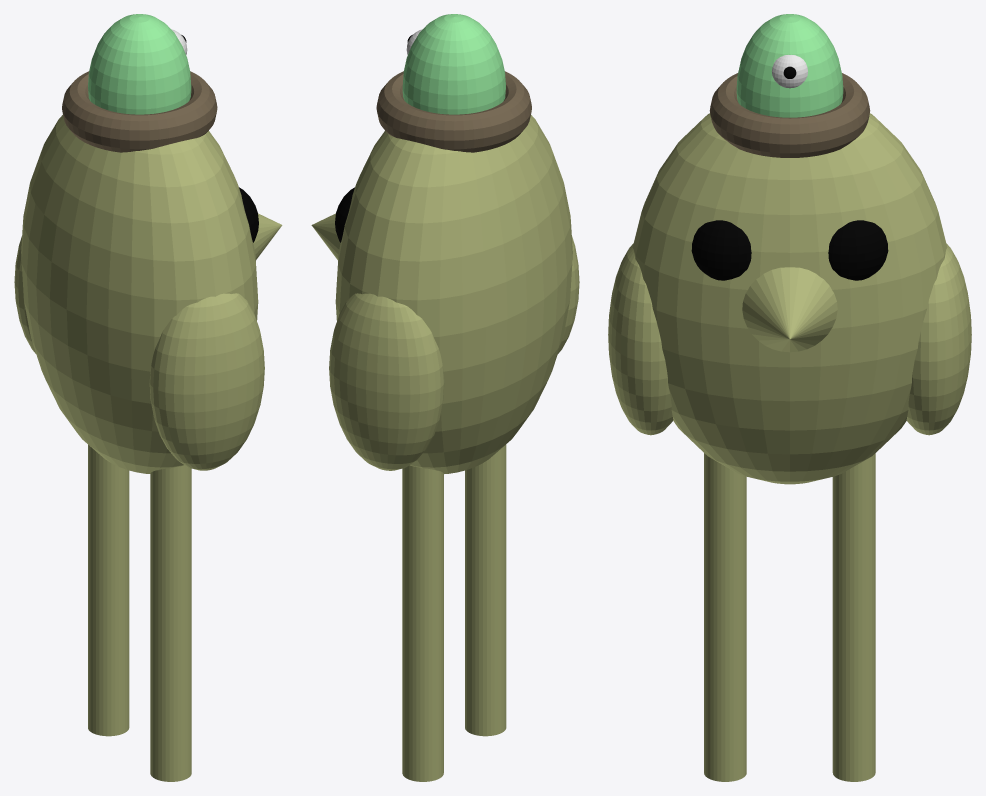
Rendered from prophet.fbx.
The picture shows the model from 3 angles, left to right: view 1: azimuth 30°, elevation 25°; view 2: azimuth 150°, elevation 25°; view 3: azimuth 270°, elevation 25°; orthographic projection. The views are drawn at different scales.
Parts seen in each view (by area): view 1: right wing, right leg, left leg, egg, nest crown, nose, eyes; view 2: right wing, left leg, right leg, egg, nest crown, nose, eyes; view 3: right wing, left leg, right leg, egg, nest crown, nose, eyes, egg eye.
Part boxes in pixels (left/top/right/bottom): right wing: left=14, top=115, right=264, bottom=473; right leg: left=150, top=465, right=191, bottom=781; left leg: left=88, top=444, right=129, bottom=736; egg: left=88, top=14, right=191, bottom=114; nest crown: left=62, top=71, right=217, bottom=152; nose: left=253, top=213, right=282, bottom=260; eyes: left=239, top=187, right=258, bottom=242; right wing: left=329, top=115, right=579, bottom=473; left leg: left=402, top=465, right=443, bottom=781; right leg: left=465, top=444, right=506, bottom=736; egg: left=402, top=14, right=505, bottom=114; nest crown: left=376, top=71, right=531, bottom=152; nose: left=311, top=213, right=340, bottom=259; eyes: left=335, top=187, right=354, bottom=242; right wing: left=608, top=113, right=971, bottom=484; left leg: left=832, top=453, right=875, bottom=781; right leg: left=704, top=453, right=746, bottom=781; egg: left=736, top=14, right=843, bottom=117; nest crown: left=709, top=73, right=870, bottom=157; nose: left=742, top=267, right=837, bottom=352; eyes: left=691, top=220, right=888, bottom=280; egg eye: left=772, top=55, right=807, bottom=88.
Bounding box in the file's own units: 259 × 780 × 340.
